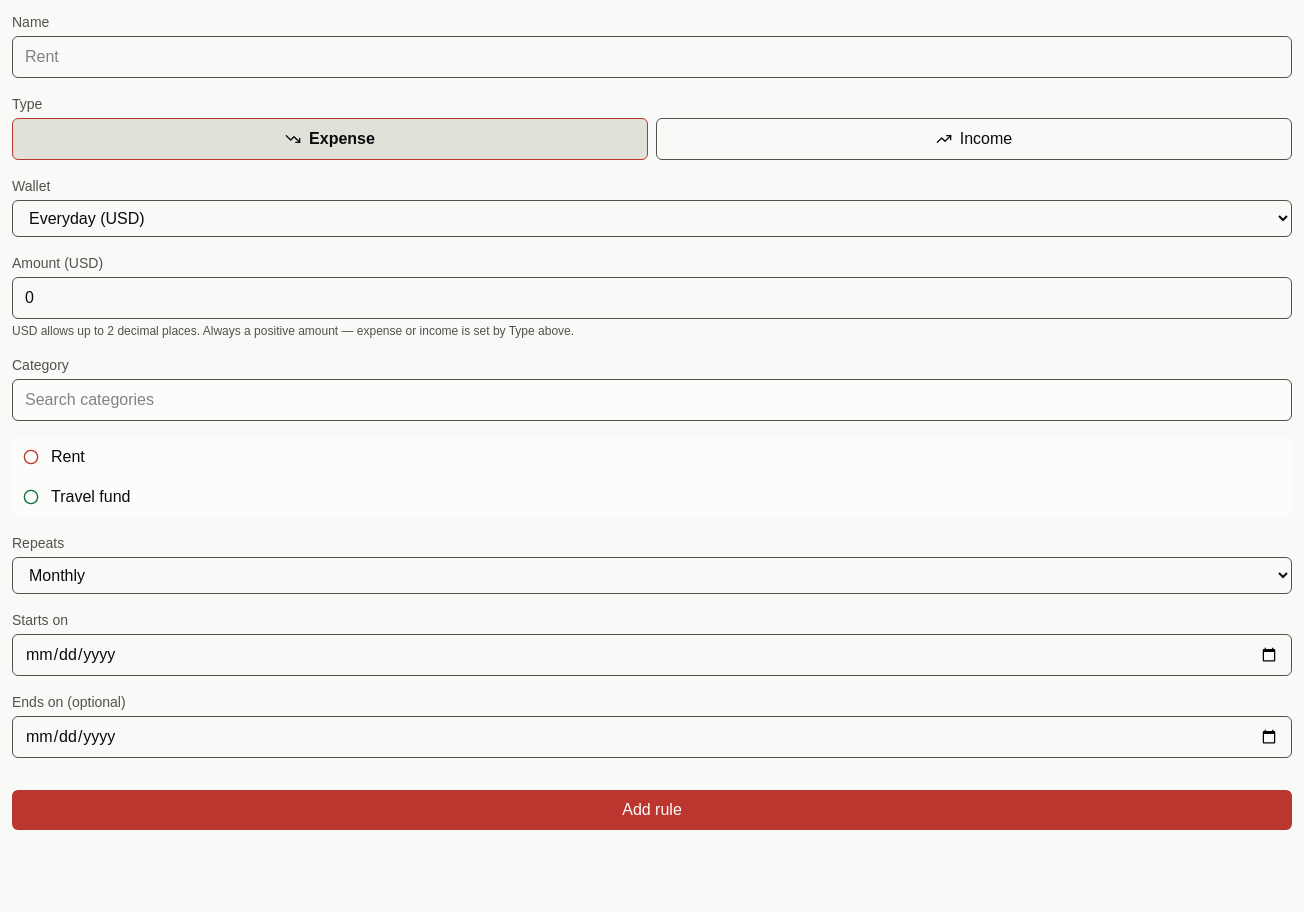
RecurringForm in create mode › keeps every typed value on screen after the action returns an error
In the field labelled "Name": (652, 57) [12,36,1292,78], type "EndowUs DCA"
Replace the text in the field labelled "Amount" with "800": (652, 298) [12,277,1292,319]
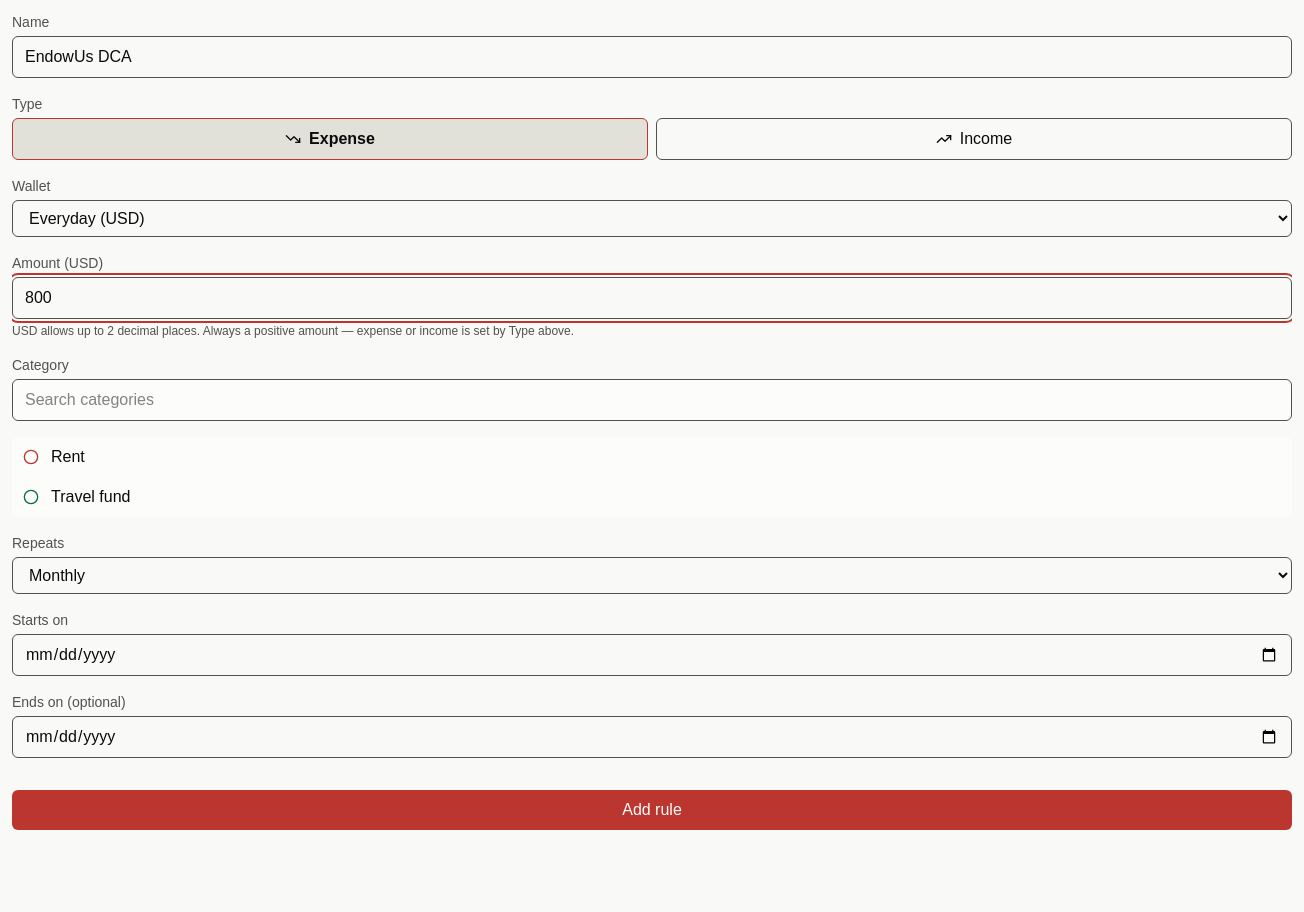
Click the button "Rent": (68, 456) [12,437,1292,477]
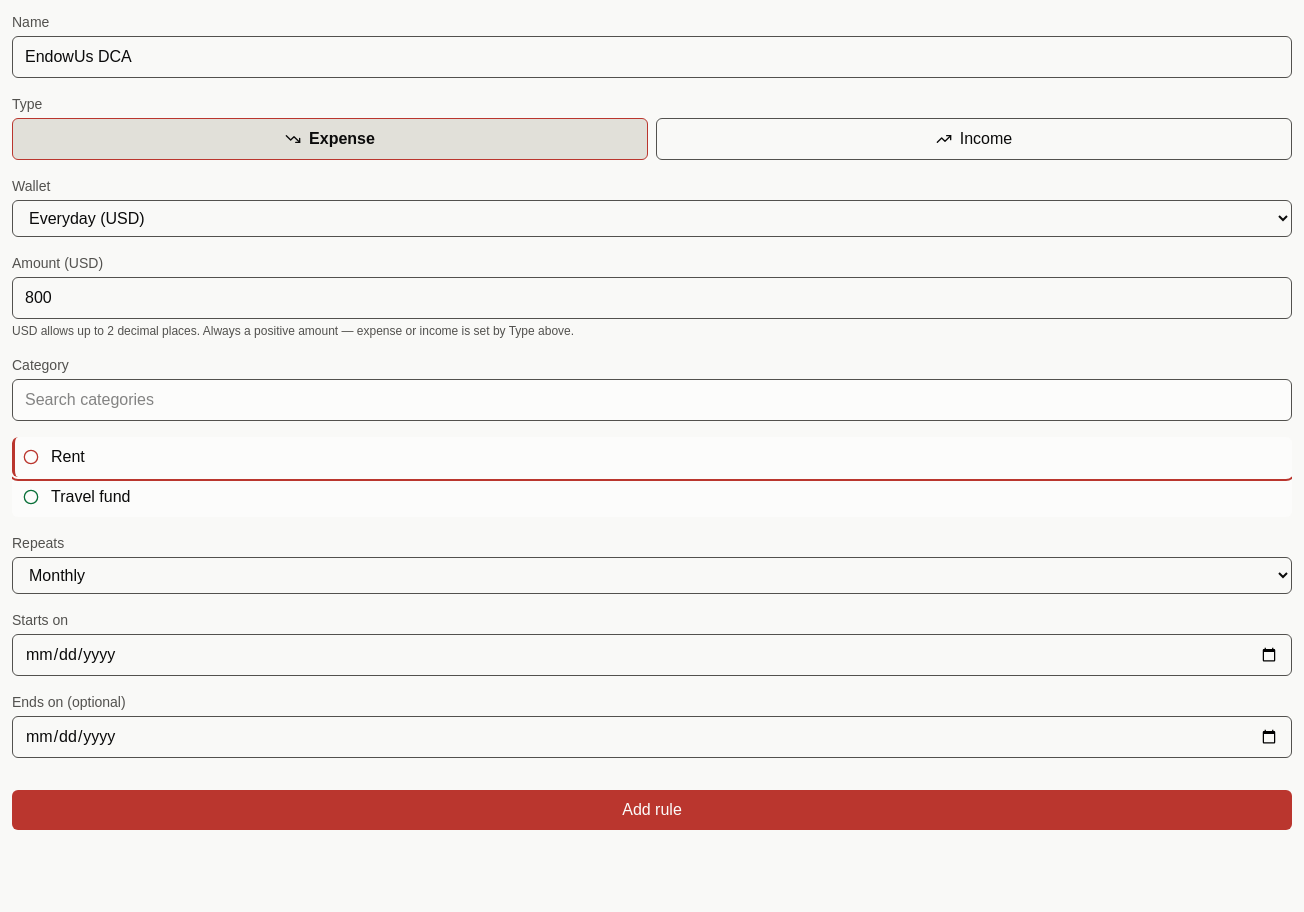
Select "Weekly" in the dropdown labelled "Repeats": (652, 576) [12,557,1292,594]
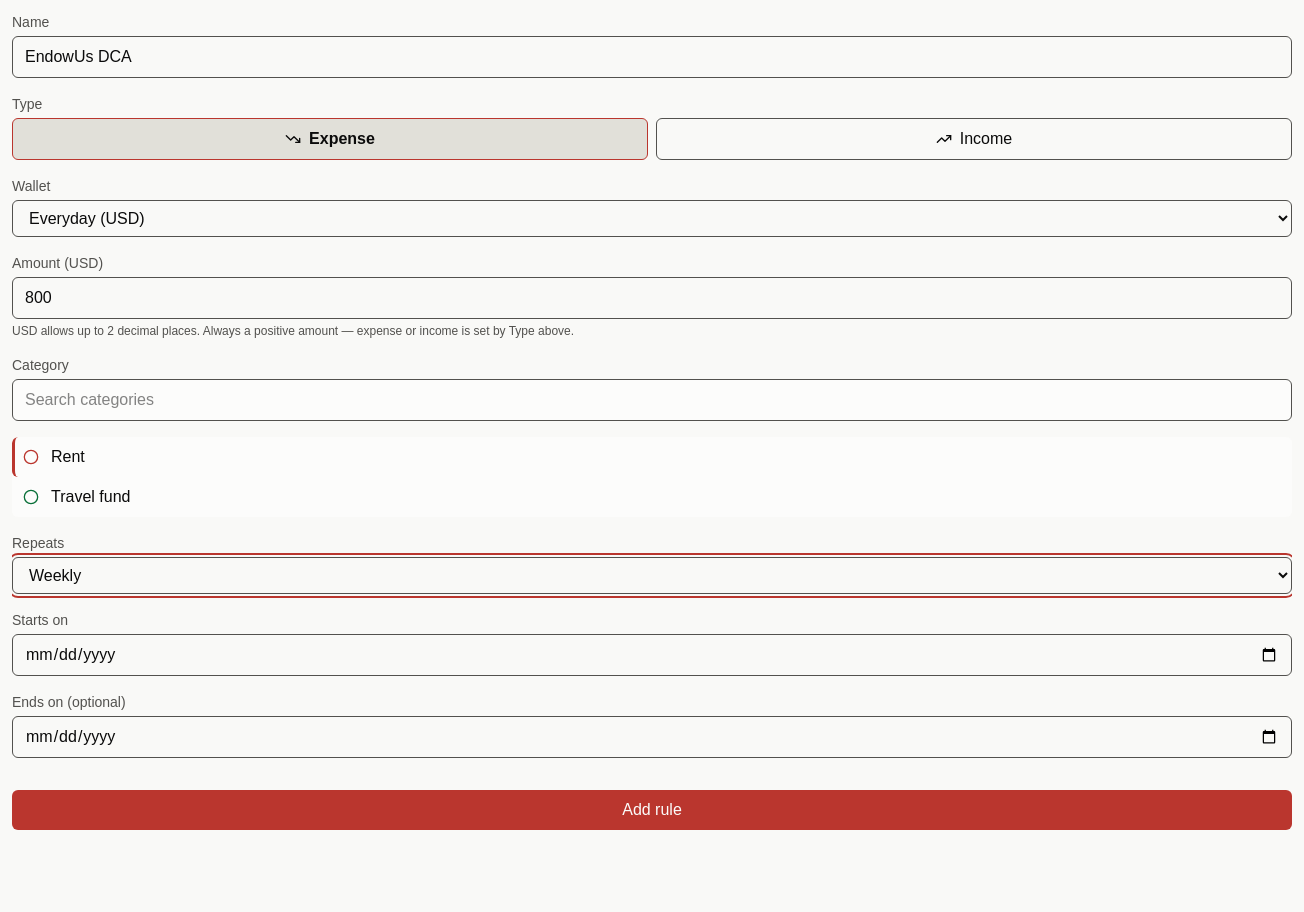
In the date field labelled "Starts on": (652, 655) [12,634,1292,676], type "2026-09-15"
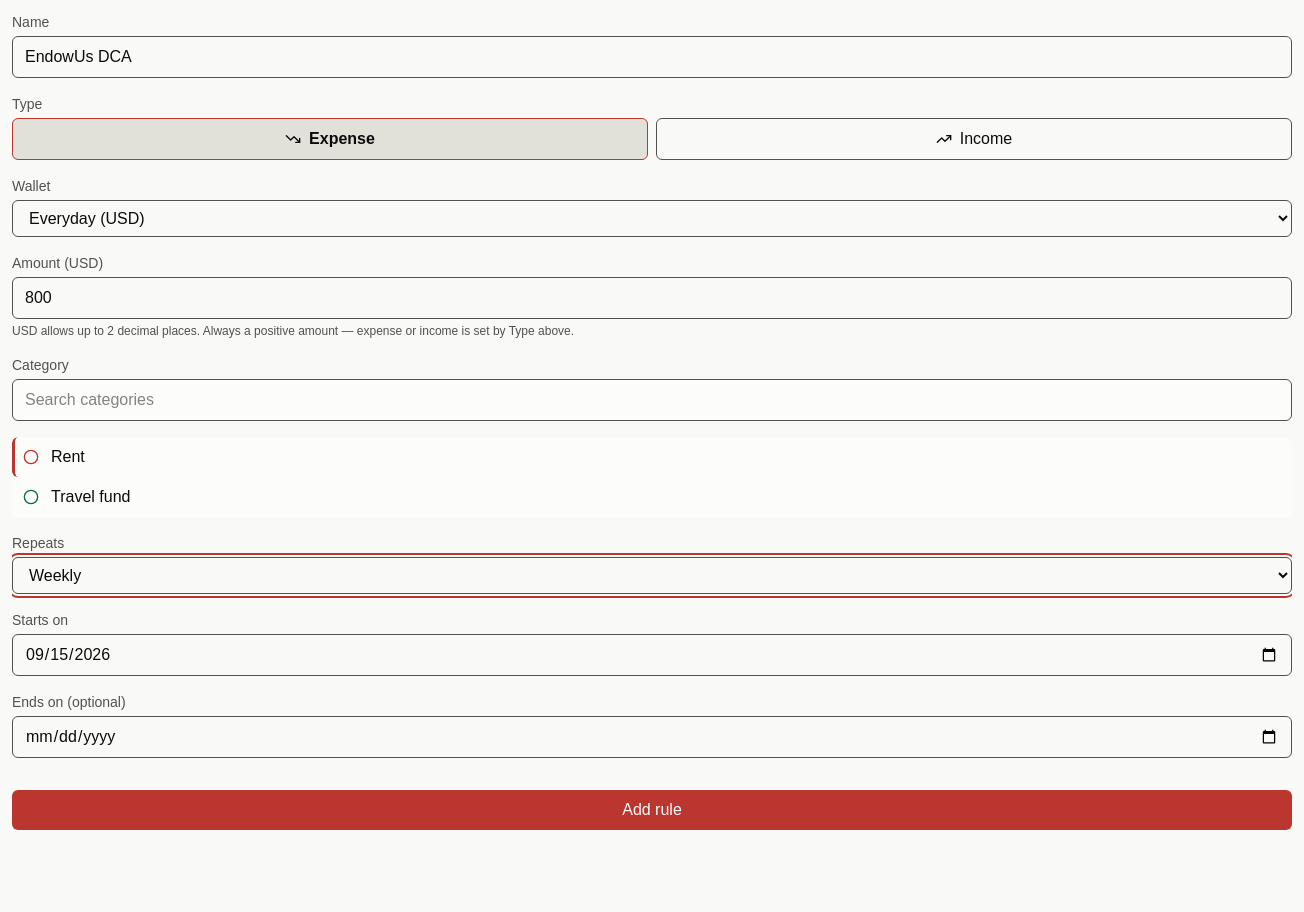
In the date field labelled "Ends on (optional)": (652, 737) [12,716,1292,758], type "2026-01-01"
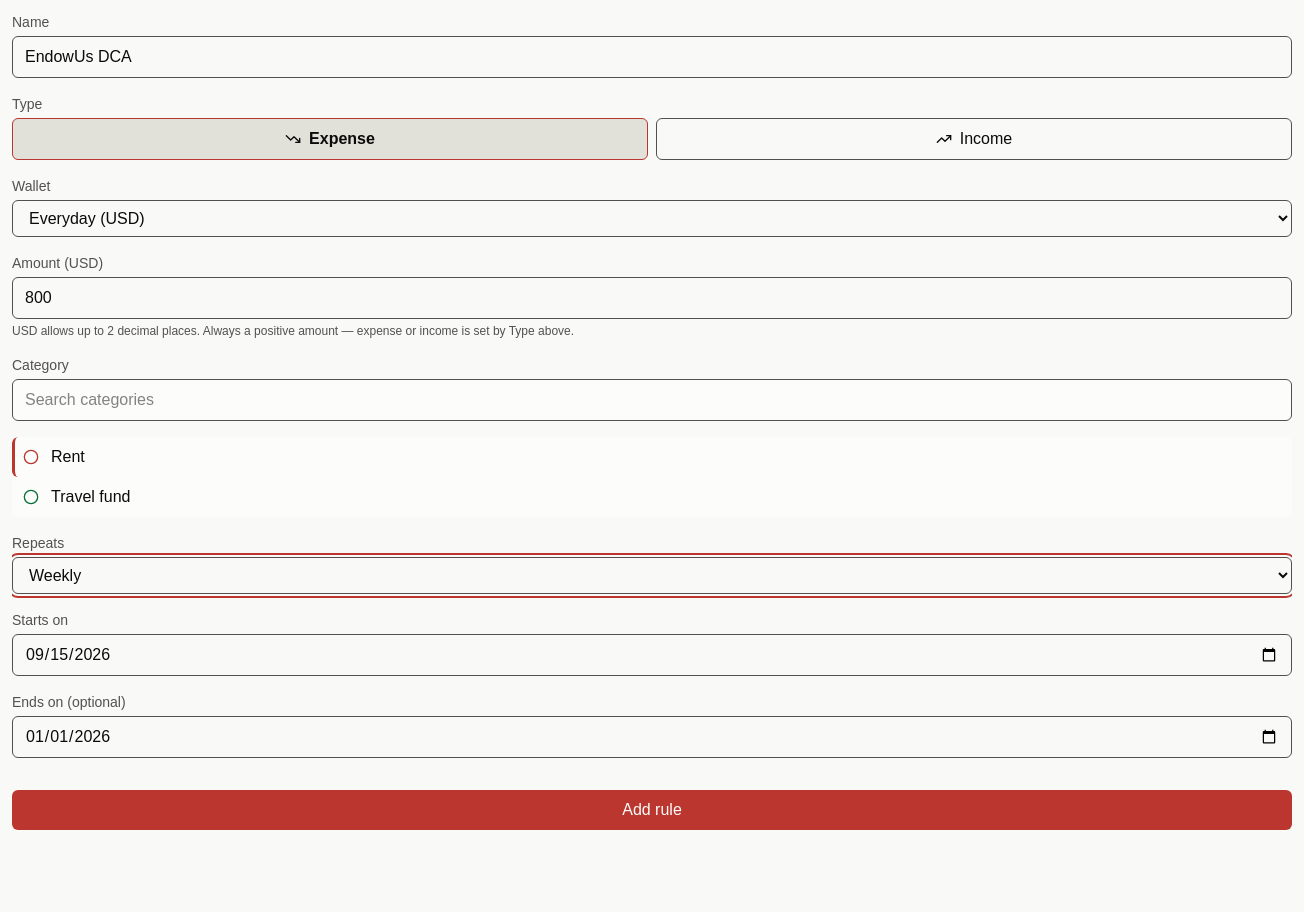
Click the button "Add rule": (652, 810) [12,790,1292,830]
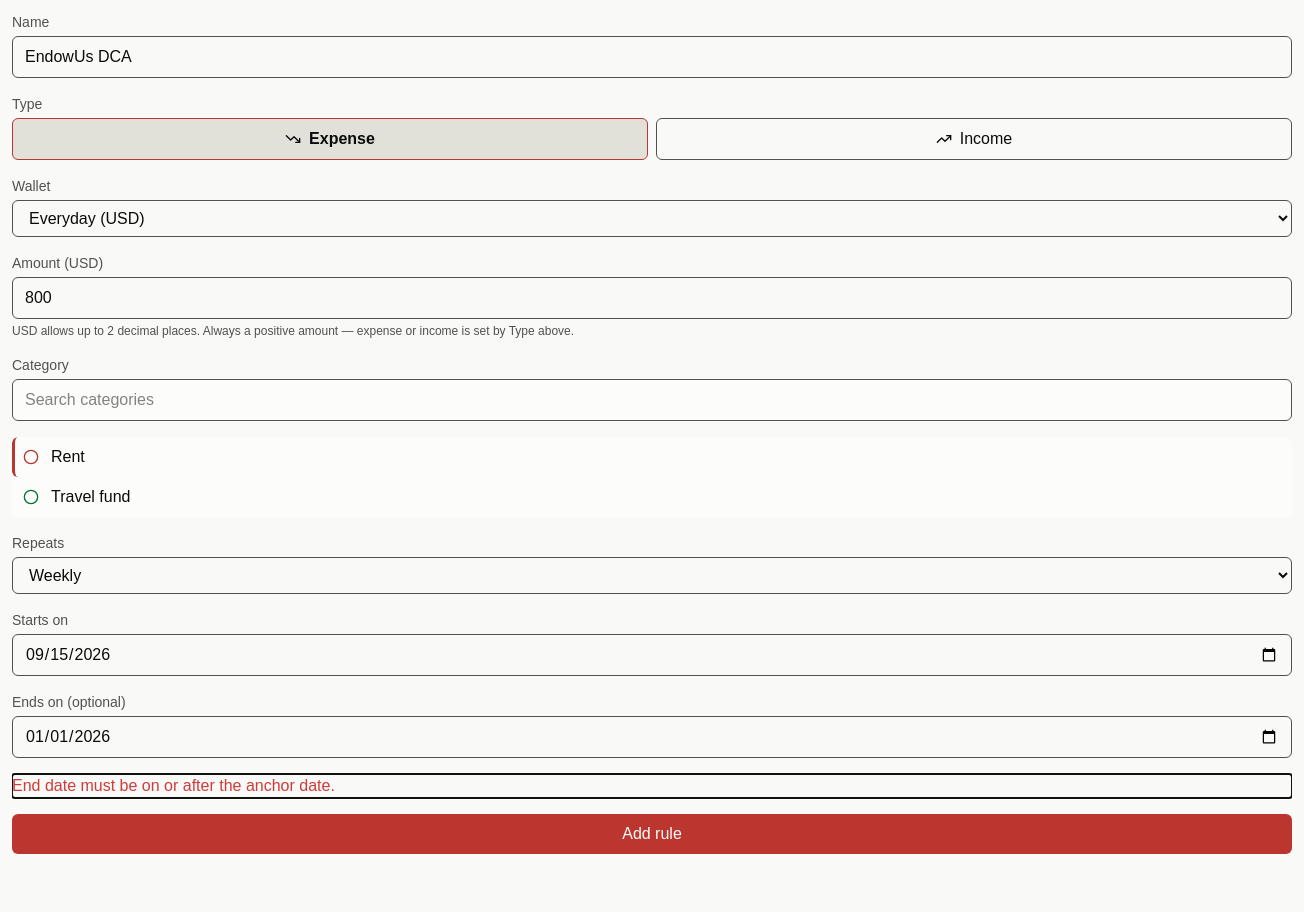
Result: the text "End date must be on or after the anchor date." is shown at [12,777,335,794]
